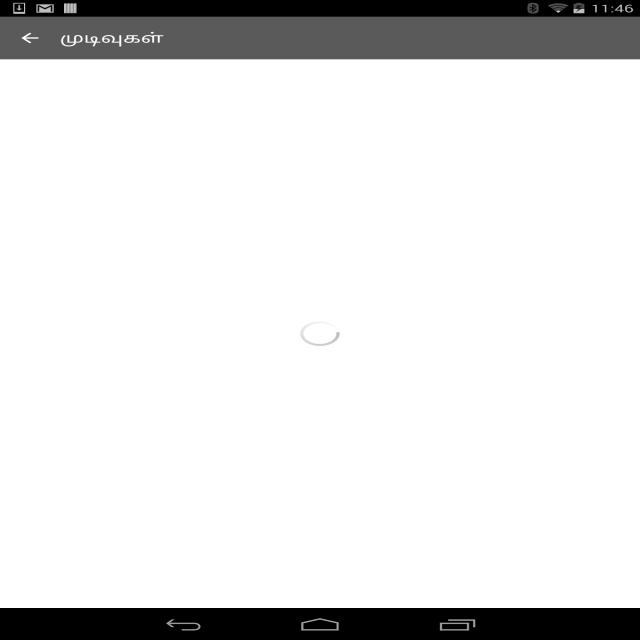ImageButton: (0, 30, 60, 46)
ImageView: (9, 65, 630, 218), (9, 282, 630, 435), (9, 499, 630, 640), (562, 499, 631, 542), (562, 282, 631, 324), (562, 65, 631, 106)
ProgressBar: (294, 318, 346, 350)
TextView: (9, 182, 516, 208), (9, 400, 516, 424), (10, 218, 217, 252), (10, 436, 160, 470), (27, 252, 410, 265), (27, 469, 342, 482), (60, 29, 164, 47), (487, 22, 538, 54), (589, 22, 640, 54), (538, 22, 588, 54)
